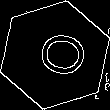O_W: (25, 28, 85, 82)
